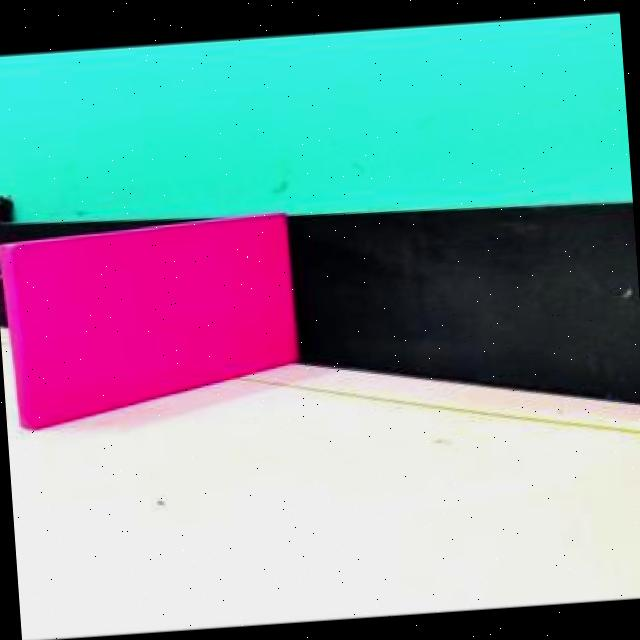xparking: (12, 237, 282, 426)
